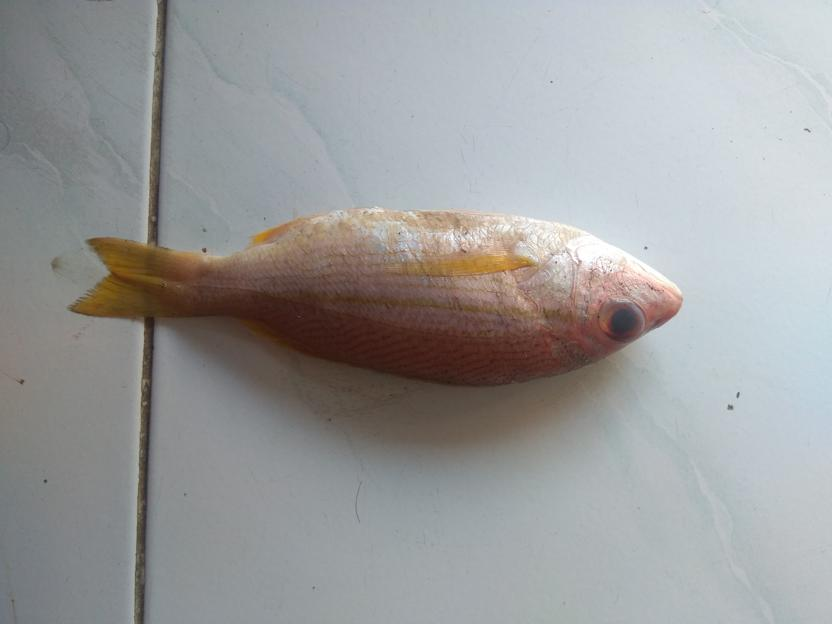Fish head: (535, 219, 685, 366)
Fish tail: (67, 234, 203, 321)
